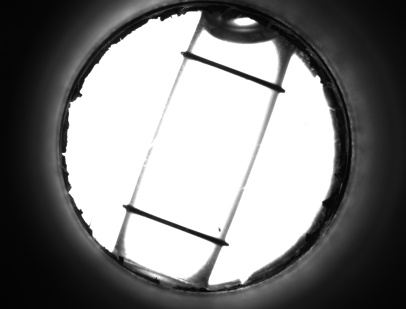line: (200, 53, 263, 85), (140, 216, 214, 234)
